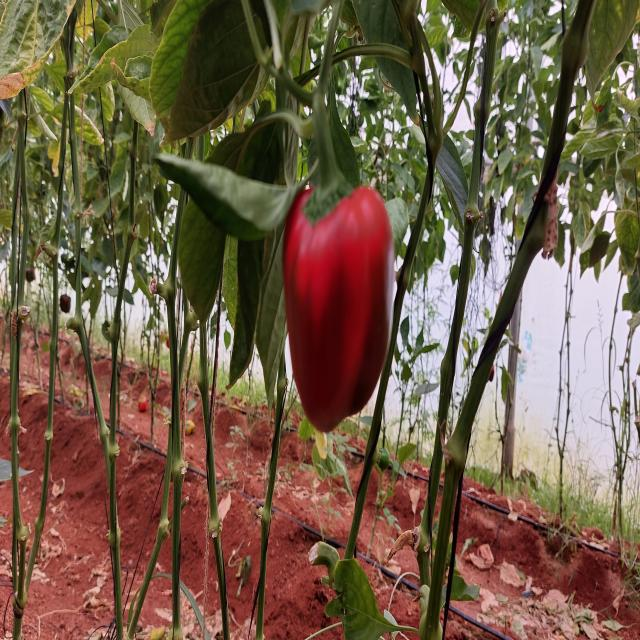Red-Ready-to-Harvest: (274, 182, 411, 450)
